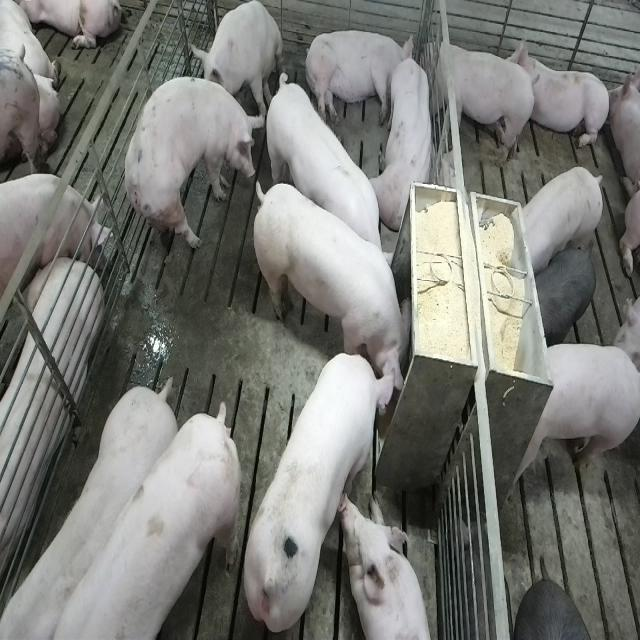Feeding: (238, 348, 403, 634), (256, 176, 419, 398)
Lateral_lying: (0, 255, 101, 610), (304, 28, 414, 128)
Sitting: (191, 2, 287, 127)
Standing: (3, 380, 184, 640), (262, 66, 394, 288), (118, 75, 254, 268), (512, 342, 640, 496), (422, 32, 536, 170), (0, 172, 108, 305), (512, 165, 604, 274), (530, 243, 596, 345)
Sternal_lying: (344, 493, 435, 640), (514, 35, 612, 154), (374, 49, 437, 232)
